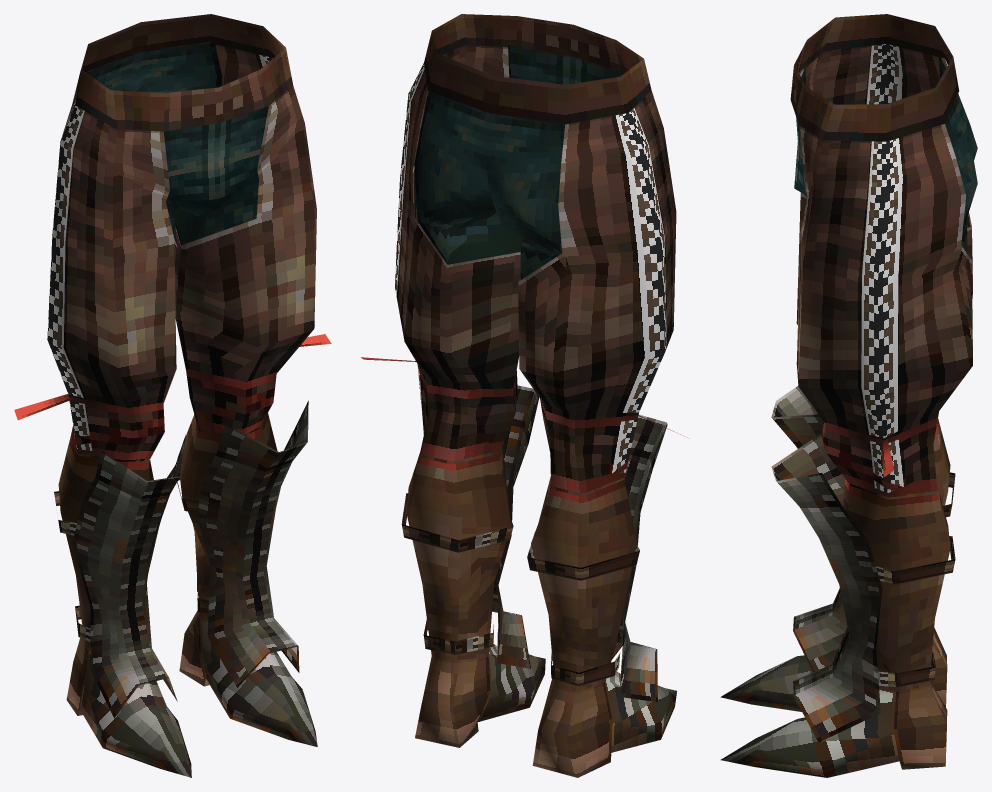
3 renders of one model, left to right at view 1: azimuth 30°, elevation 25°; view 2: azimuth 150°, elevation 25°; view 3: azimuth 270°, elevation 25°, orthographic. The views are drawn at different scales.
Parts seen in each view (by area): view 1: mesh00; view 2: mesh00; view 3: mesh00.
Part boxes in pixels (left/top/right/bottom): mesh00: left=14, top=14, right=331, bottom=777; mesh00: left=361, top=14, right=689, bottom=777; mesh00: left=720, top=14, right=977, bottom=777.
Bounding box in the file's own units: 53.83 × 108 × 37.39.
